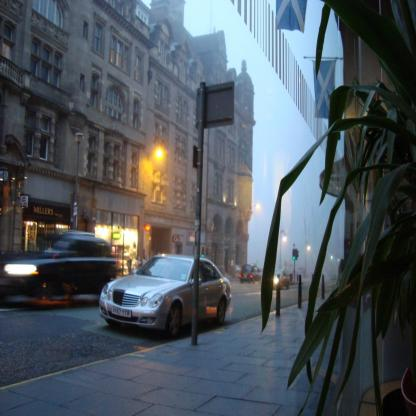Car: (101, 252, 233, 340), (1, 232, 120, 298), (240, 264, 262, 282), (272, 270, 292, 289)
